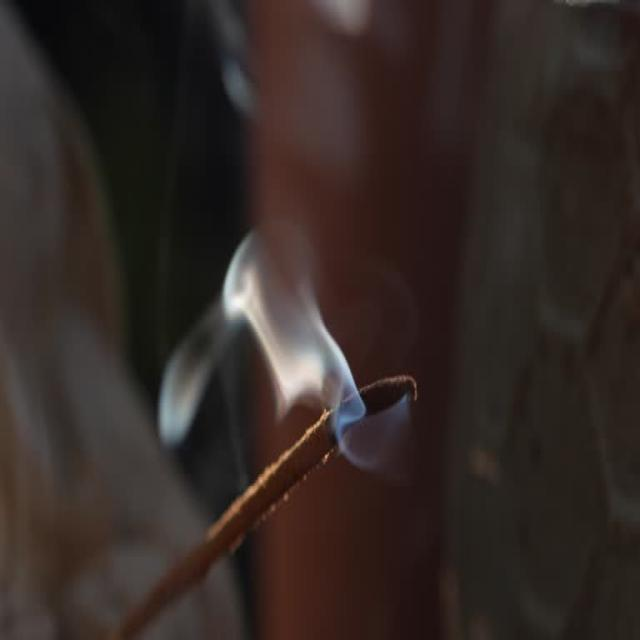Agarbatti: (100, 358, 426, 633)
